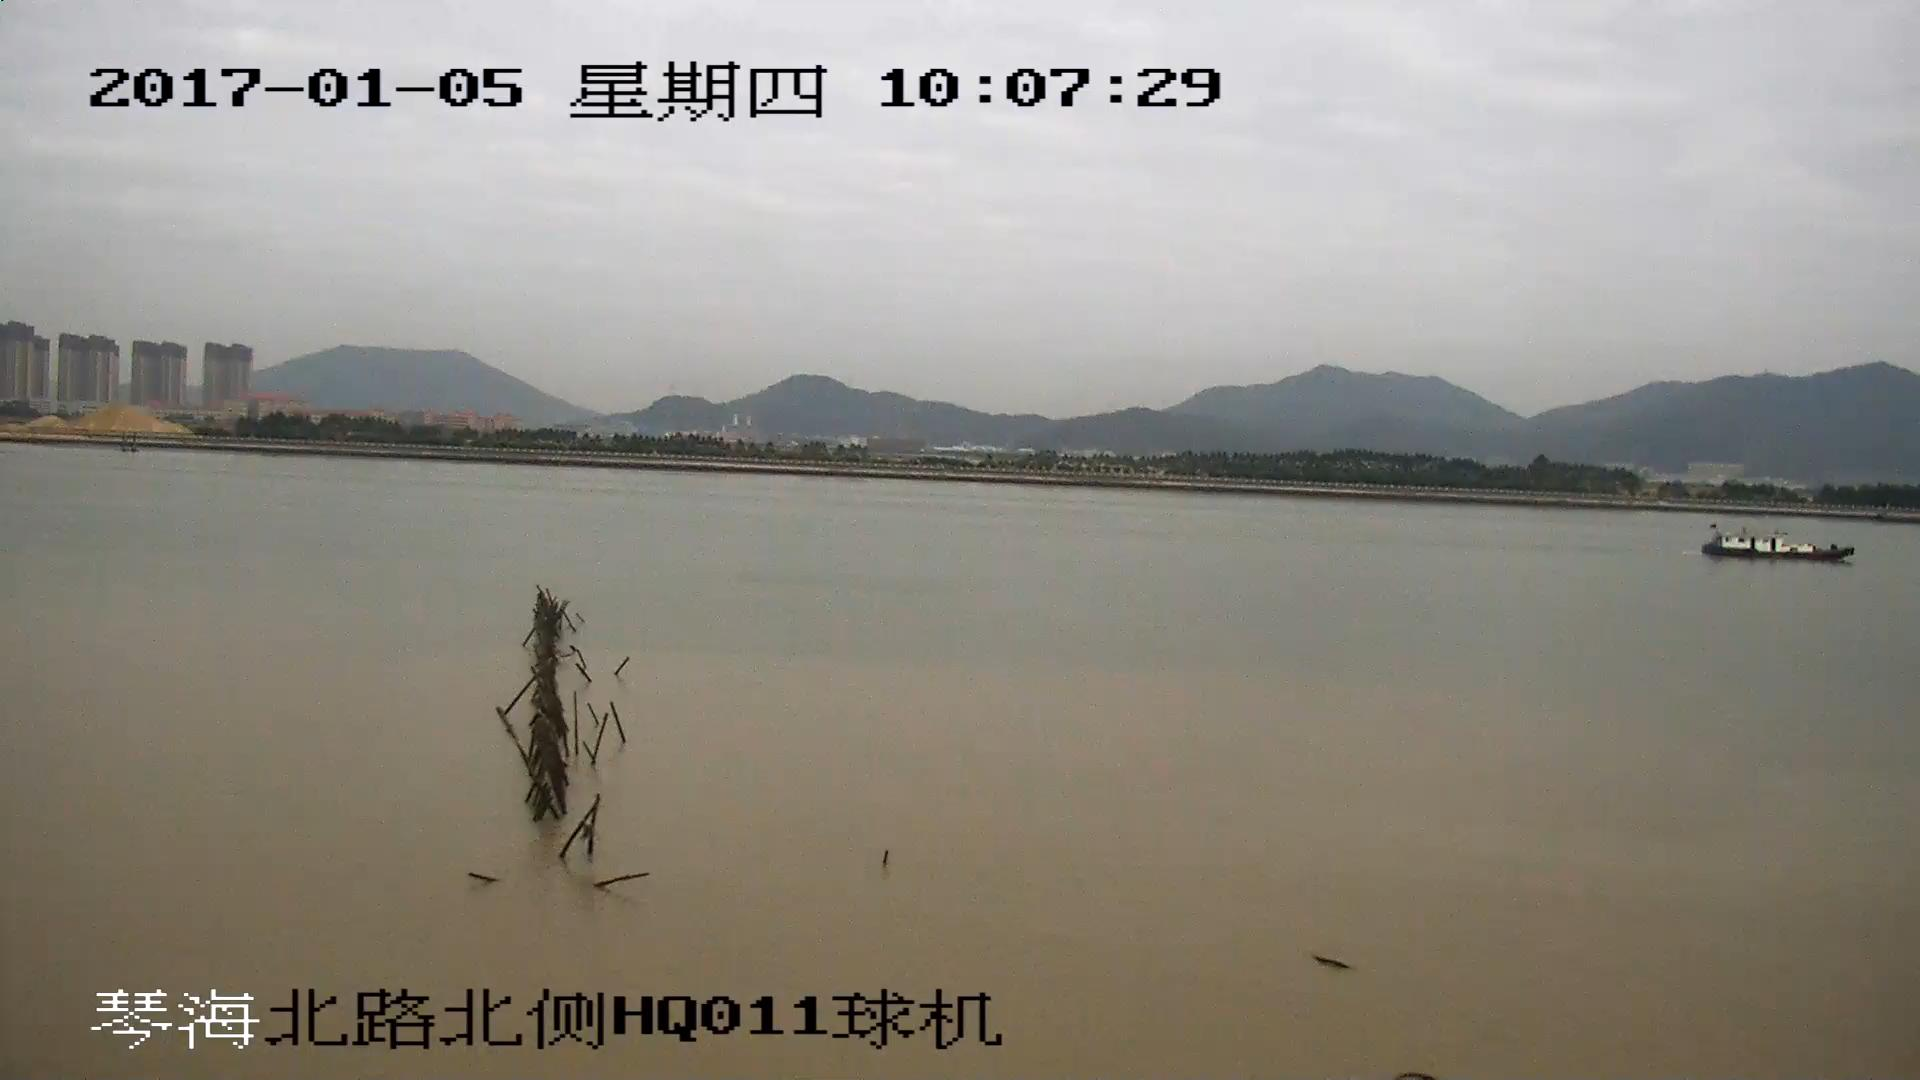fishing boat: (1704, 524, 1856, 565)
